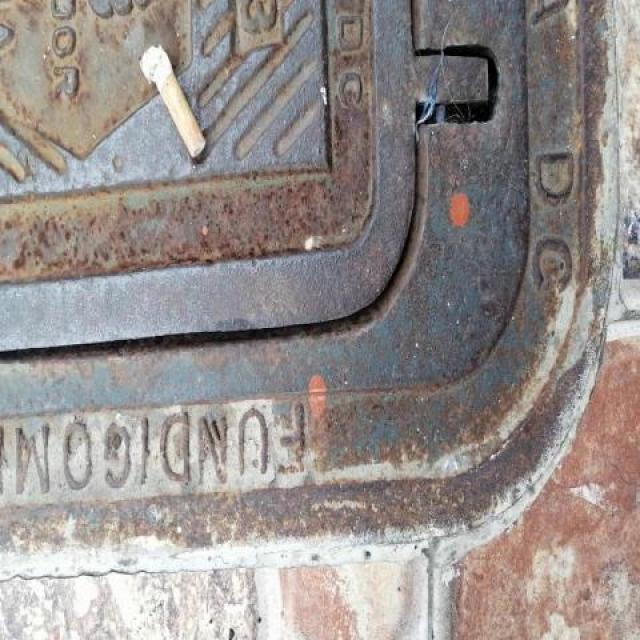non-organic waste: (135, 41, 209, 160)
